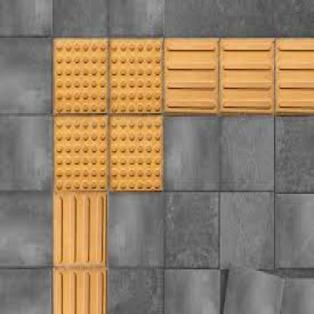Podoctatil: (53, 37, 314, 314)
